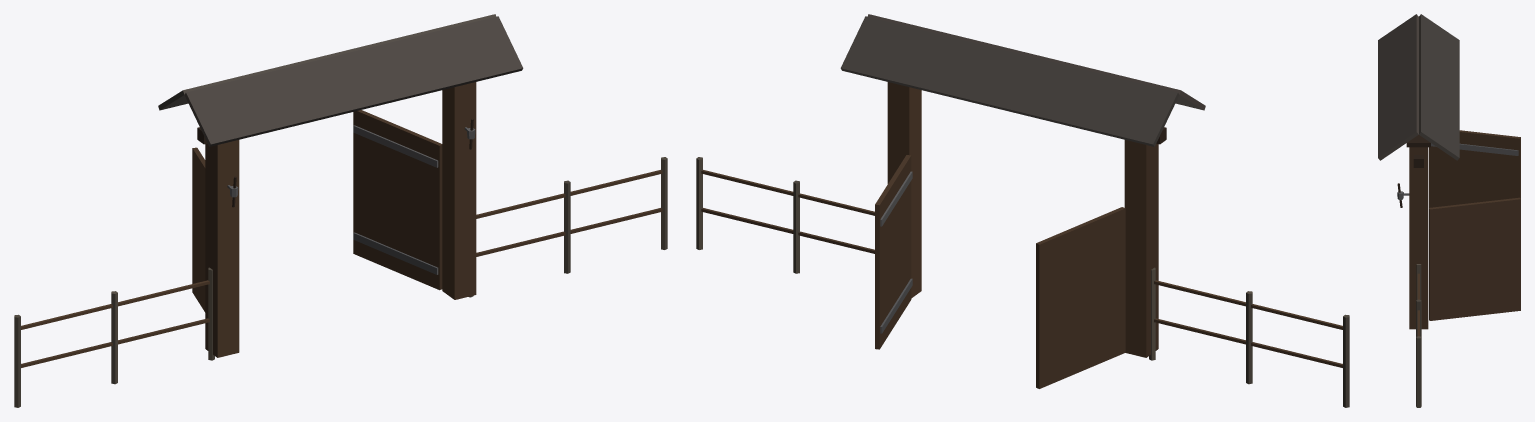
File: walk_any_gateway.glb
3 renders of one model, left to right at view 1: azimuth 30°, elevation 25°; view 2: azimuth 150°, elevation 25°; view 3: azimuth 270°, elevation 25°, orthographic. The views are drawn at different scales.
Visible parts, largest first — view 1: walk_any_gateway, walk_any_gateway_roof, walk_any_gateway_door1, walk_any_gateway_door0; view 2: walk_any_gateway_roof, walk_any_gateway, walk_any_gateway_door0, walk_any_gateway_door1; view 3: walk_any_gateway_door1, walk_any_gateway_roof, walk_any_gateway_door0, walk_any_gateway.
Part boxes in pixels (x1,y1,x2,y2): walk_any_gateway: (14, 82, 667, 407); walk_any_gateway_roof: (158, 14, 523, 146); walk_any_gateway_door1: (353, 110, 442, 290); walk_any_gateway_door0: (192, 147, 205, 312); walk_any_gateway_roof: (840, 14, 1205, 146); walk_any_gateway: (696, 82, 1349, 407); walk_any_gateway_door0: (1036, 207, 1125, 388); walk_any_gateway_door1: (875, 155, 912, 349); walk_any_gateway_door1: (1429, 197, 1520, 320); walk_any_gateway_roof: (1378, 14, 1459, 160); walk_any_gateway_door0: (1429, 130, 1520, 207); walk_any_gateway: (1397, 135, 1430, 407).
Size of what is drawn, in the model's own units: 12.11 by 4.86 by 2.97.
Materials: 2 (2 with a texture image).
